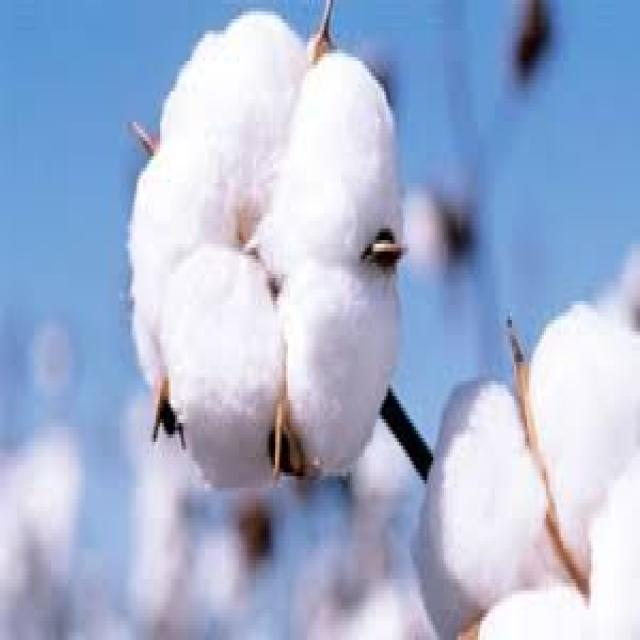Matured Cotton Boll: (124, 8, 406, 493), (409, 293, 640, 639)
